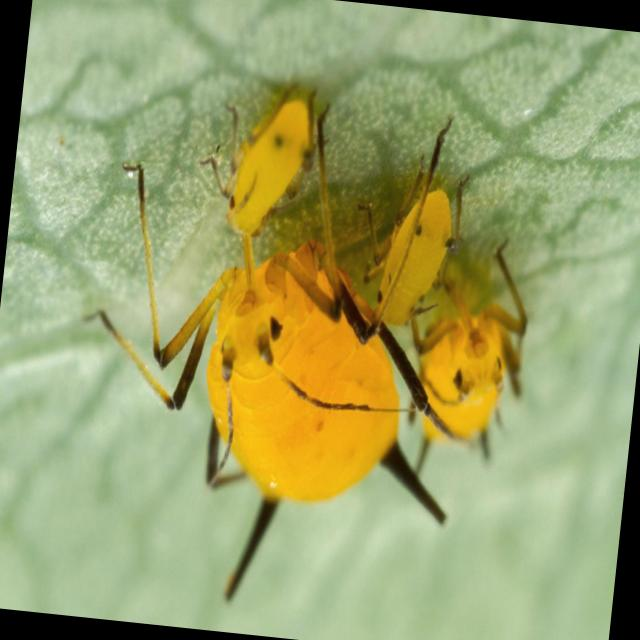Aphid: (116, 200, 431, 537), (403, 223, 541, 462), (194, 72, 334, 250), (359, 132, 481, 335)
